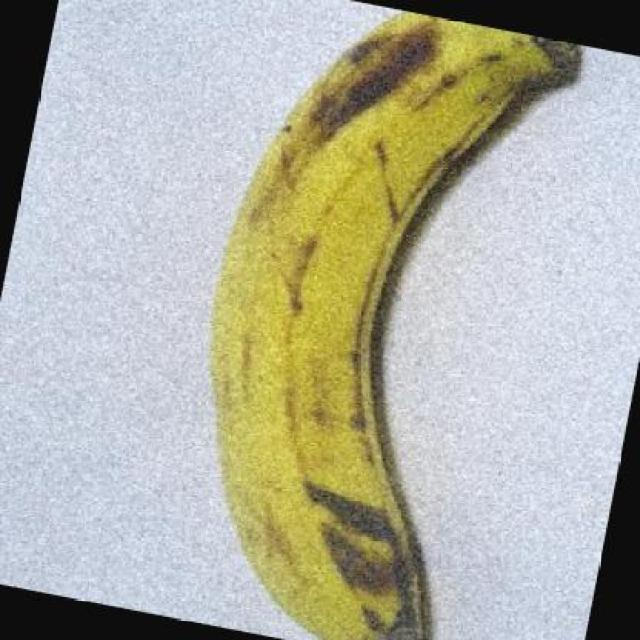Overripe: (171, 0, 619, 640)
